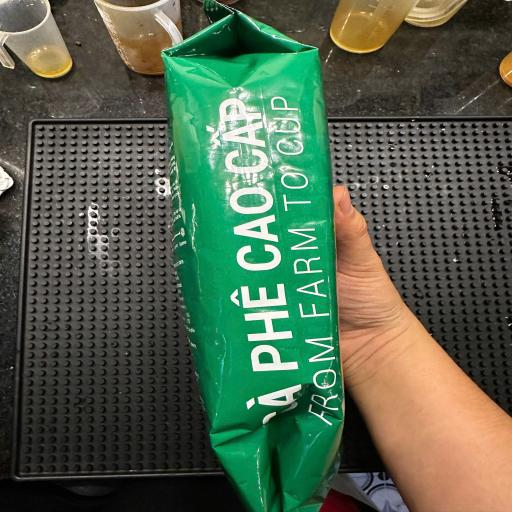cafe_xay: (130, 0, 378, 512)
